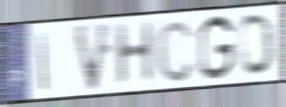C: (154, 17, 196, 85)
G: (197, 14, 236, 82)
H: (112, 19, 156, 89)
I: (38, 30, 49, 92)
O: (238, 11, 277, 78)
V: (71, 20, 115, 94)
